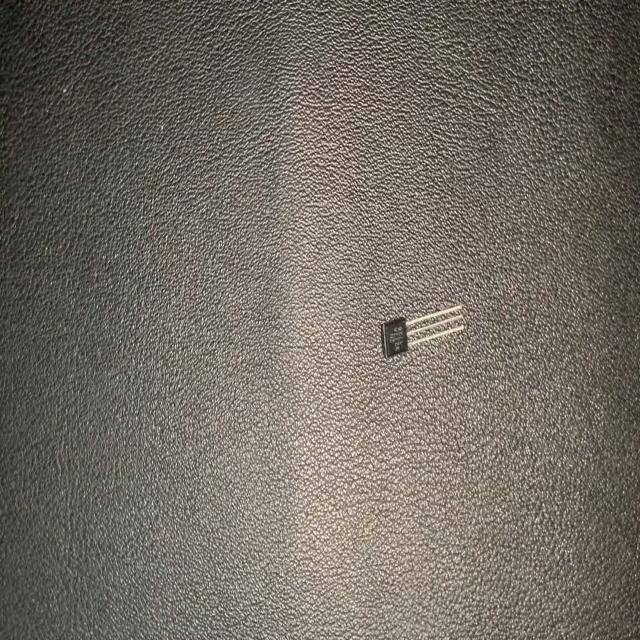BJT: (380, 296, 466, 364)
